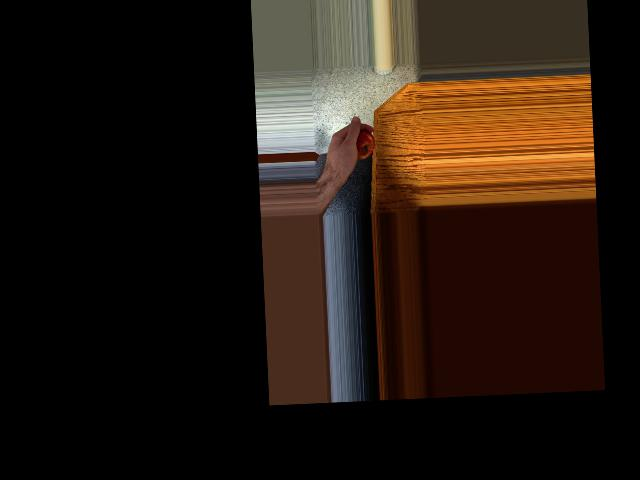apple: (346, 128, 375, 160)
